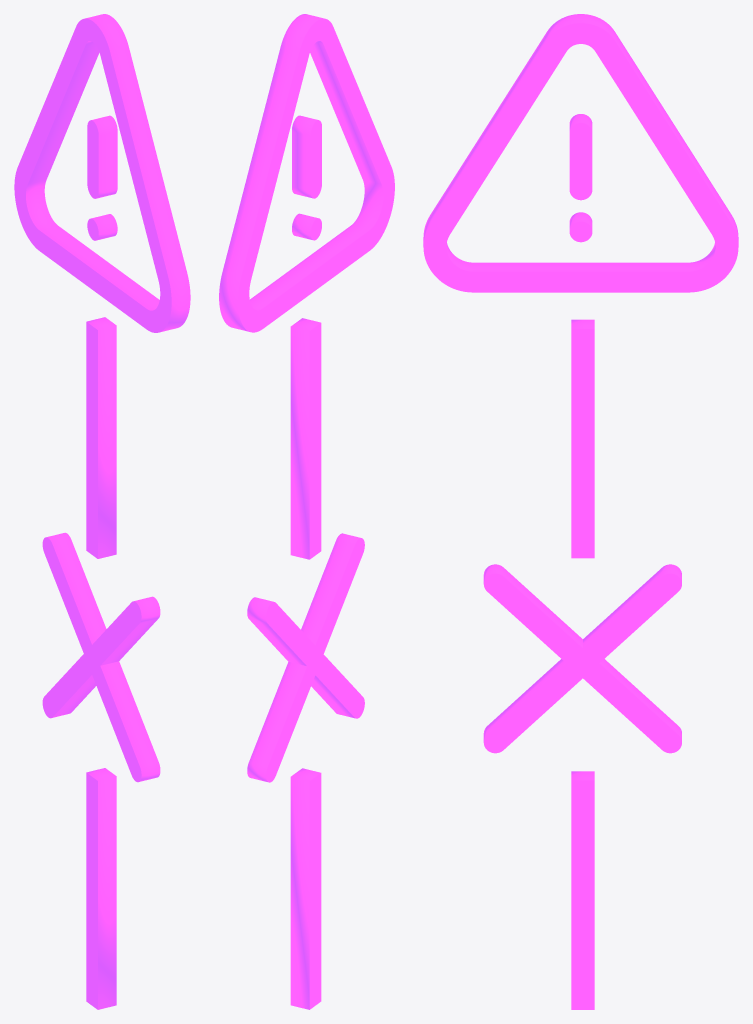
The model's file is status-not-connected-play.glb.
3 renders of one model, left to right at view 1: azimuth 30°, elevation 25°; view 2: azimuth 150°, elevation 25°; view 3: azimuth 270°, elevation 25°, orthographic.
Parts seen in each view (by area): view 1: Curve.007, Curve.015, Curve.014, Curve.013, Curve.016, Curve.011, Curve.012; view 2: Curve.007, Curve.013, Curve.014, Curve.016, Curve.015, Curve.011, Curve.012; view 3: Curve.007, Curve.015, Curve.016, Curve.013, Curve.014, Curve.011.
Boxes of the visible parts, box(x1,y1,x2,y2) form: Curve.007: box(14, 14, 190, 332); Curve.015: box(42, 532, 160, 782); Curve.014: box(86, 768, 116, 1009); Curve.013: box(86, 317, 116, 558); Curve.016: box(42, 596, 160, 718); Curve.011: box(87, 115, 117, 198); Curve.012: box(87, 214, 117, 240); Curve.007: box(219, 14, 394, 332); Curve.013: box(290, 318, 321, 559); Curve.014: box(290, 768, 321, 1009); Curve.016: box(247, 533, 364, 782); Curve.015: box(247, 597, 364, 718); Curve.011: box(292, 115, 321, 198); Curve.012: box(292, 213, 321, 240); Curve.007: box(423, 14, 738, 292); Curve.015: box(483, 564, 681, 753); Curve.016: box(483, 564, 681, 753); Curve.013: box(571, 319, 594, 558); Curve.014: box(571, 771, 594, 1009); Curve.011: box(569, 114, 592, 200).
Size of the model in its own units: 0.02 by 0.9946 by 0.2878.
